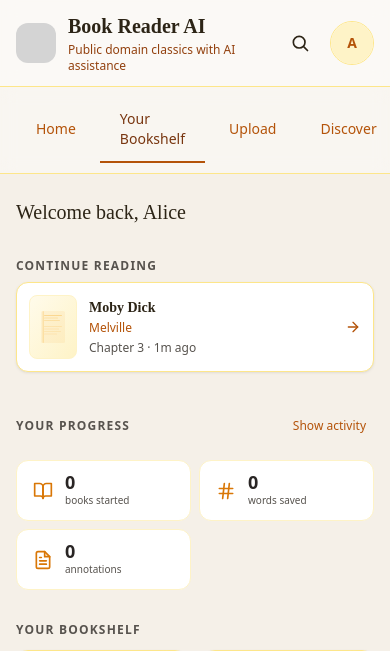
Test: Bookshelf — dashboard (UX-008) › 'Show activity' toggle reveals and hides the heatmap
The width and height of the screenshot is (390, 651).
Expected: the heading "Your Progress" is shown, x1=16 y1=417 x2=130 y2=434
Click the button "Show activity" at [329, 426], box x1=285 y1=404 x2=374 y2=448
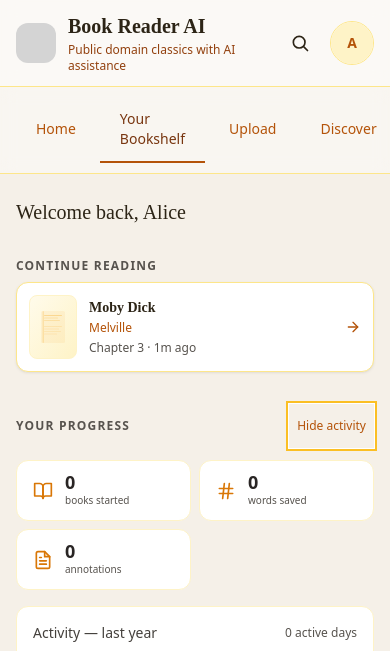
Expected: the button "Hide activity" is shown, x1=289 y1=404 x2=374 y2=448
